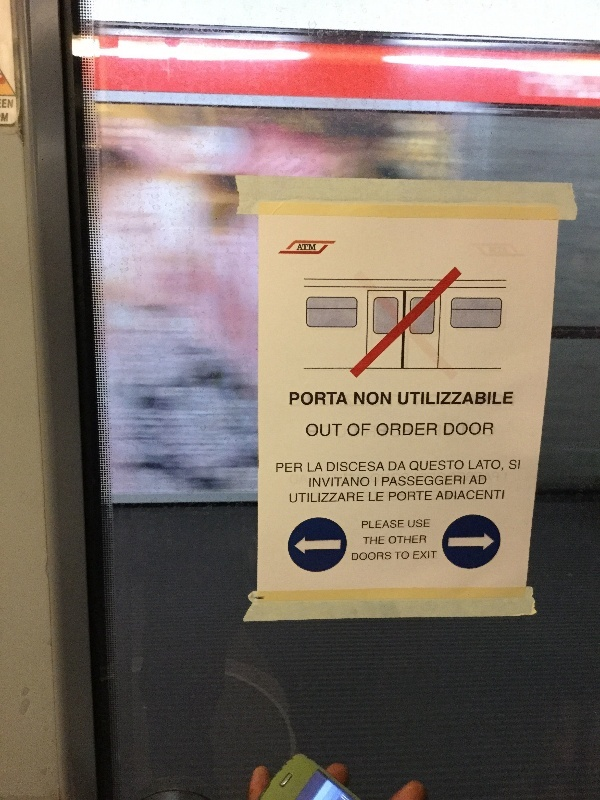text: (401, 389, 416, 408), (417, 389, 432, 408), (433, 389, 448, 408), (449, 389, 464, 408), (465, 389, 480, 408), (481, 389, 496, 408), (497, 389, 512, 408), (449, 420, 464, 439), (465, 420, 480, 439), (481, 420, 495, 439), (481, 458, 496, 474), (321, 422, 336, 437), (305, 392, 320, 406), (321, 392, 336, 406), (385, 423, 400, 437), (401, 423, 416, 437), (417, 423, 432, 437), (369, 392, 384, 406), (306, 422, 320, 437), (290, 392, 304, 406), (354, 392, 368, 406), (353, 424, 368, 437), (468, 458, 480, 474), (337, 461, 352, 473), (353, 461, 368, 473), (369, 461, 384, 473), (417, 460, 432, 472), (433, 460, 448, 472), (449, 460, 464, 472), (449, 476, 465, 487), (305, 242, 318, 255), (401, 534, 416, 545), (305, 492, 320, 503), (321, 492, 336, 503), (337, 492, 352, 503), (369, 491, 384, 502), (385, 476, 400, 487), (401, 476, 416, 487), (417, 476, 432, 487), (433, 476, 448, 487), (417, 491, 433, 501), (307, 461, 320, 473), (337, 392, 348, 406), (290, 492, 304, 503), (449, 490, 464, 500), (465, 490, 480, 500), (481, 490, 496, 500), (321, 477, 336, 487), (337, 477, 352, 487), (353, 477, 368, 487), (369, 519, 384, 529), (385, 519, 400, 529), (353, 551, 368, 561), (369, 551, 384, 561), (401, 491, 416, 501), (369, 536, 385, 545), (417, 518, 430, 529), (289, 463, 303, 473), (417, 551, 432, 560), (389, 461, 400, 472), (389, 534, 400, 545), (353, 492, 364, 503), (417, 519, 430, 528), (277, 463, 288, 473), (437, 490, 448, 500), (309, 477, 320, 487), (417, 534, 427, 545), (389, 491, 400, 501), (327, 461, 336, 473), (377, 423, 384, 437), (297, 242, 304, 255), (375, 477, 384, 487), (408, 518, 416, 529), (385, 392, 391, 406), (497, 490, 505, 500), (497, 458, 502, 474), (472, 475, 480, 485), (513, 459, 520, 470), (337, 422, 342, 437), (408, 519, 416, 528), (401, 551, 409, 560), (410, 460, 416, 472), (401, 461, 407, 472), (347, 424, 352, 437), (481, 475, 487, 485), (362, 519, 368, 529), (385, 551, 391, 561), (445, 420, 448, 439), (433, 423, 437, 437), (363, 536, 368, 545), (395, 551, 400, 560), (433, 551, 438, 560), (401, 519, 405, 529), (398, 389, 400, 408), (413, 551, 416, 560), (369, 424, 371, 437), (321, 461, 323, 473), (510, 459, 512, 470), (382, 476, 384, 487), (369, 477, 371, 487), (513, 389, 514, 408), (385, 461, 386, 473)
